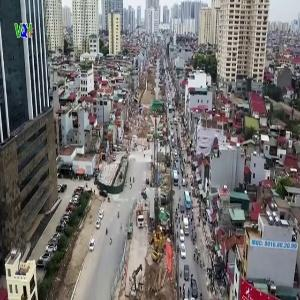drone: (224, 62, 275, 113)
